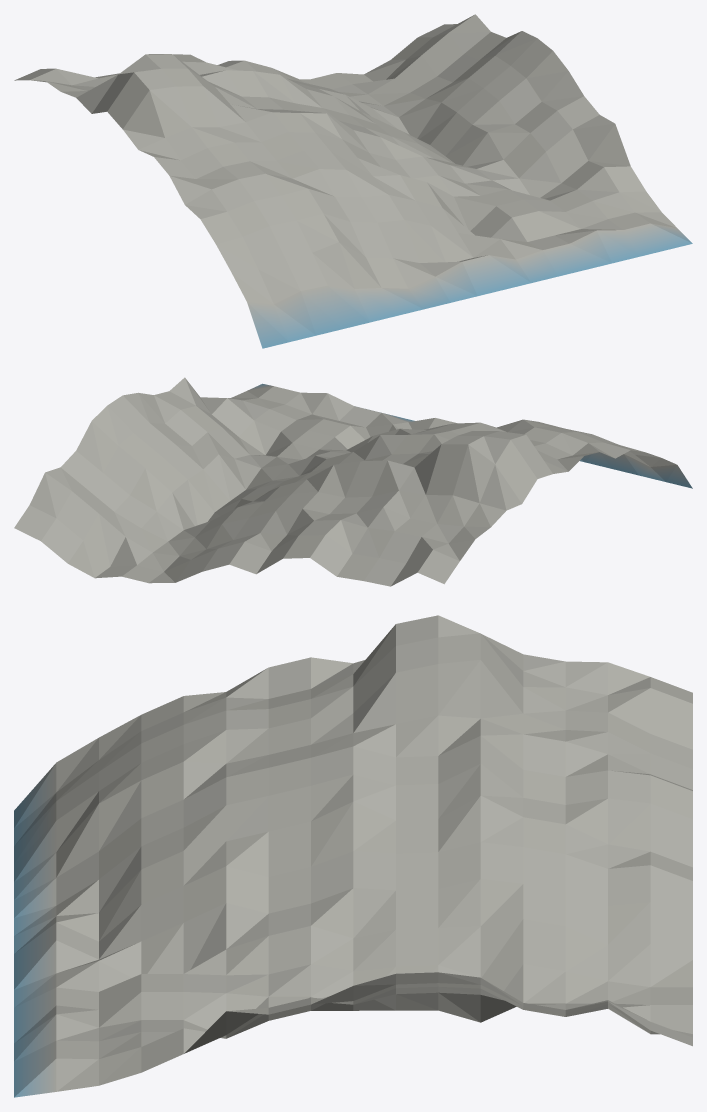
3 renders of one model, top to bottom at view 1: azimuth 30°, elevation 25°; view 2: azimuth 150°, elevation 25°; view 3: azimuth 270°, elevation 25°, orthographic. The views are drawn at different scales.
Bounding box in the file's own units: 32 × 11.09 × 32.
